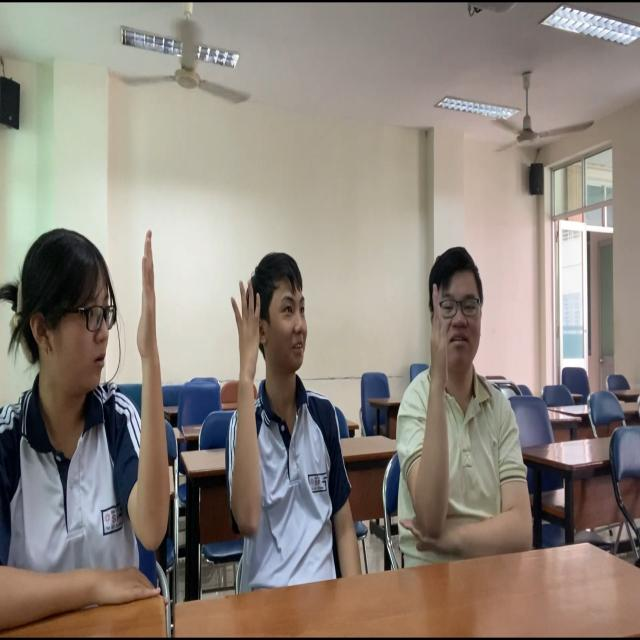raise_hand: (1, 206, 178, 640), (215, 232, 371, 624), (392, 235, 541, 588)
